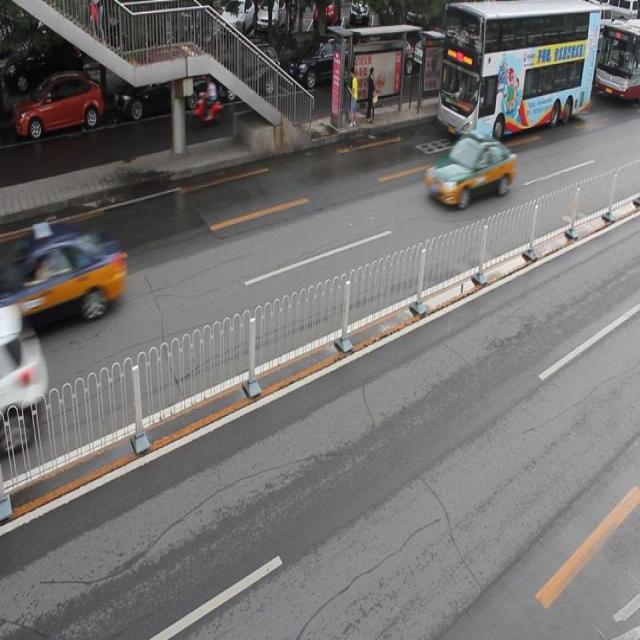car: (9, 225, 127, 323), (426, 128, 516, 206), (14, 73, 105, 142), (117, 57, 205, 120), (1, 320, 48, 436), (288, 36, 359, 90), (220, 44, 279, 102)
van: (437, 1, 598, 142), (595, 24, 640, 100)
